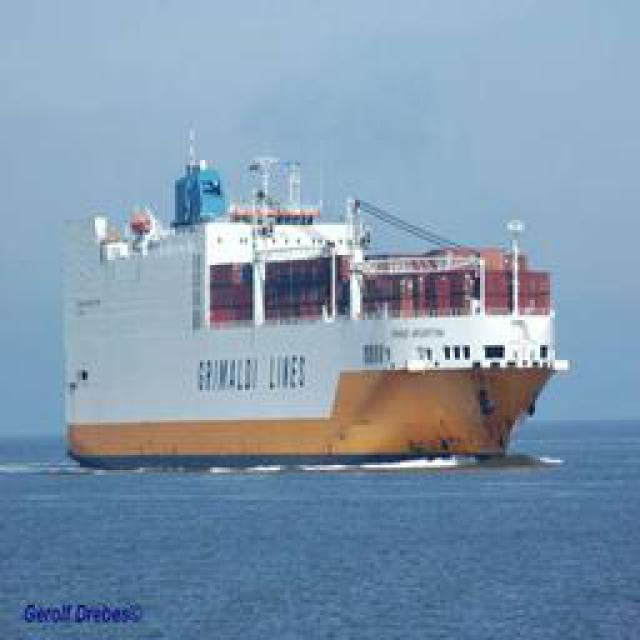Ship: (64, 150, 567, 465)
